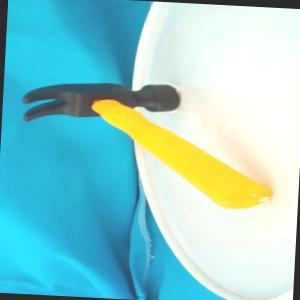martelo: (16, 75, 278, 211)
